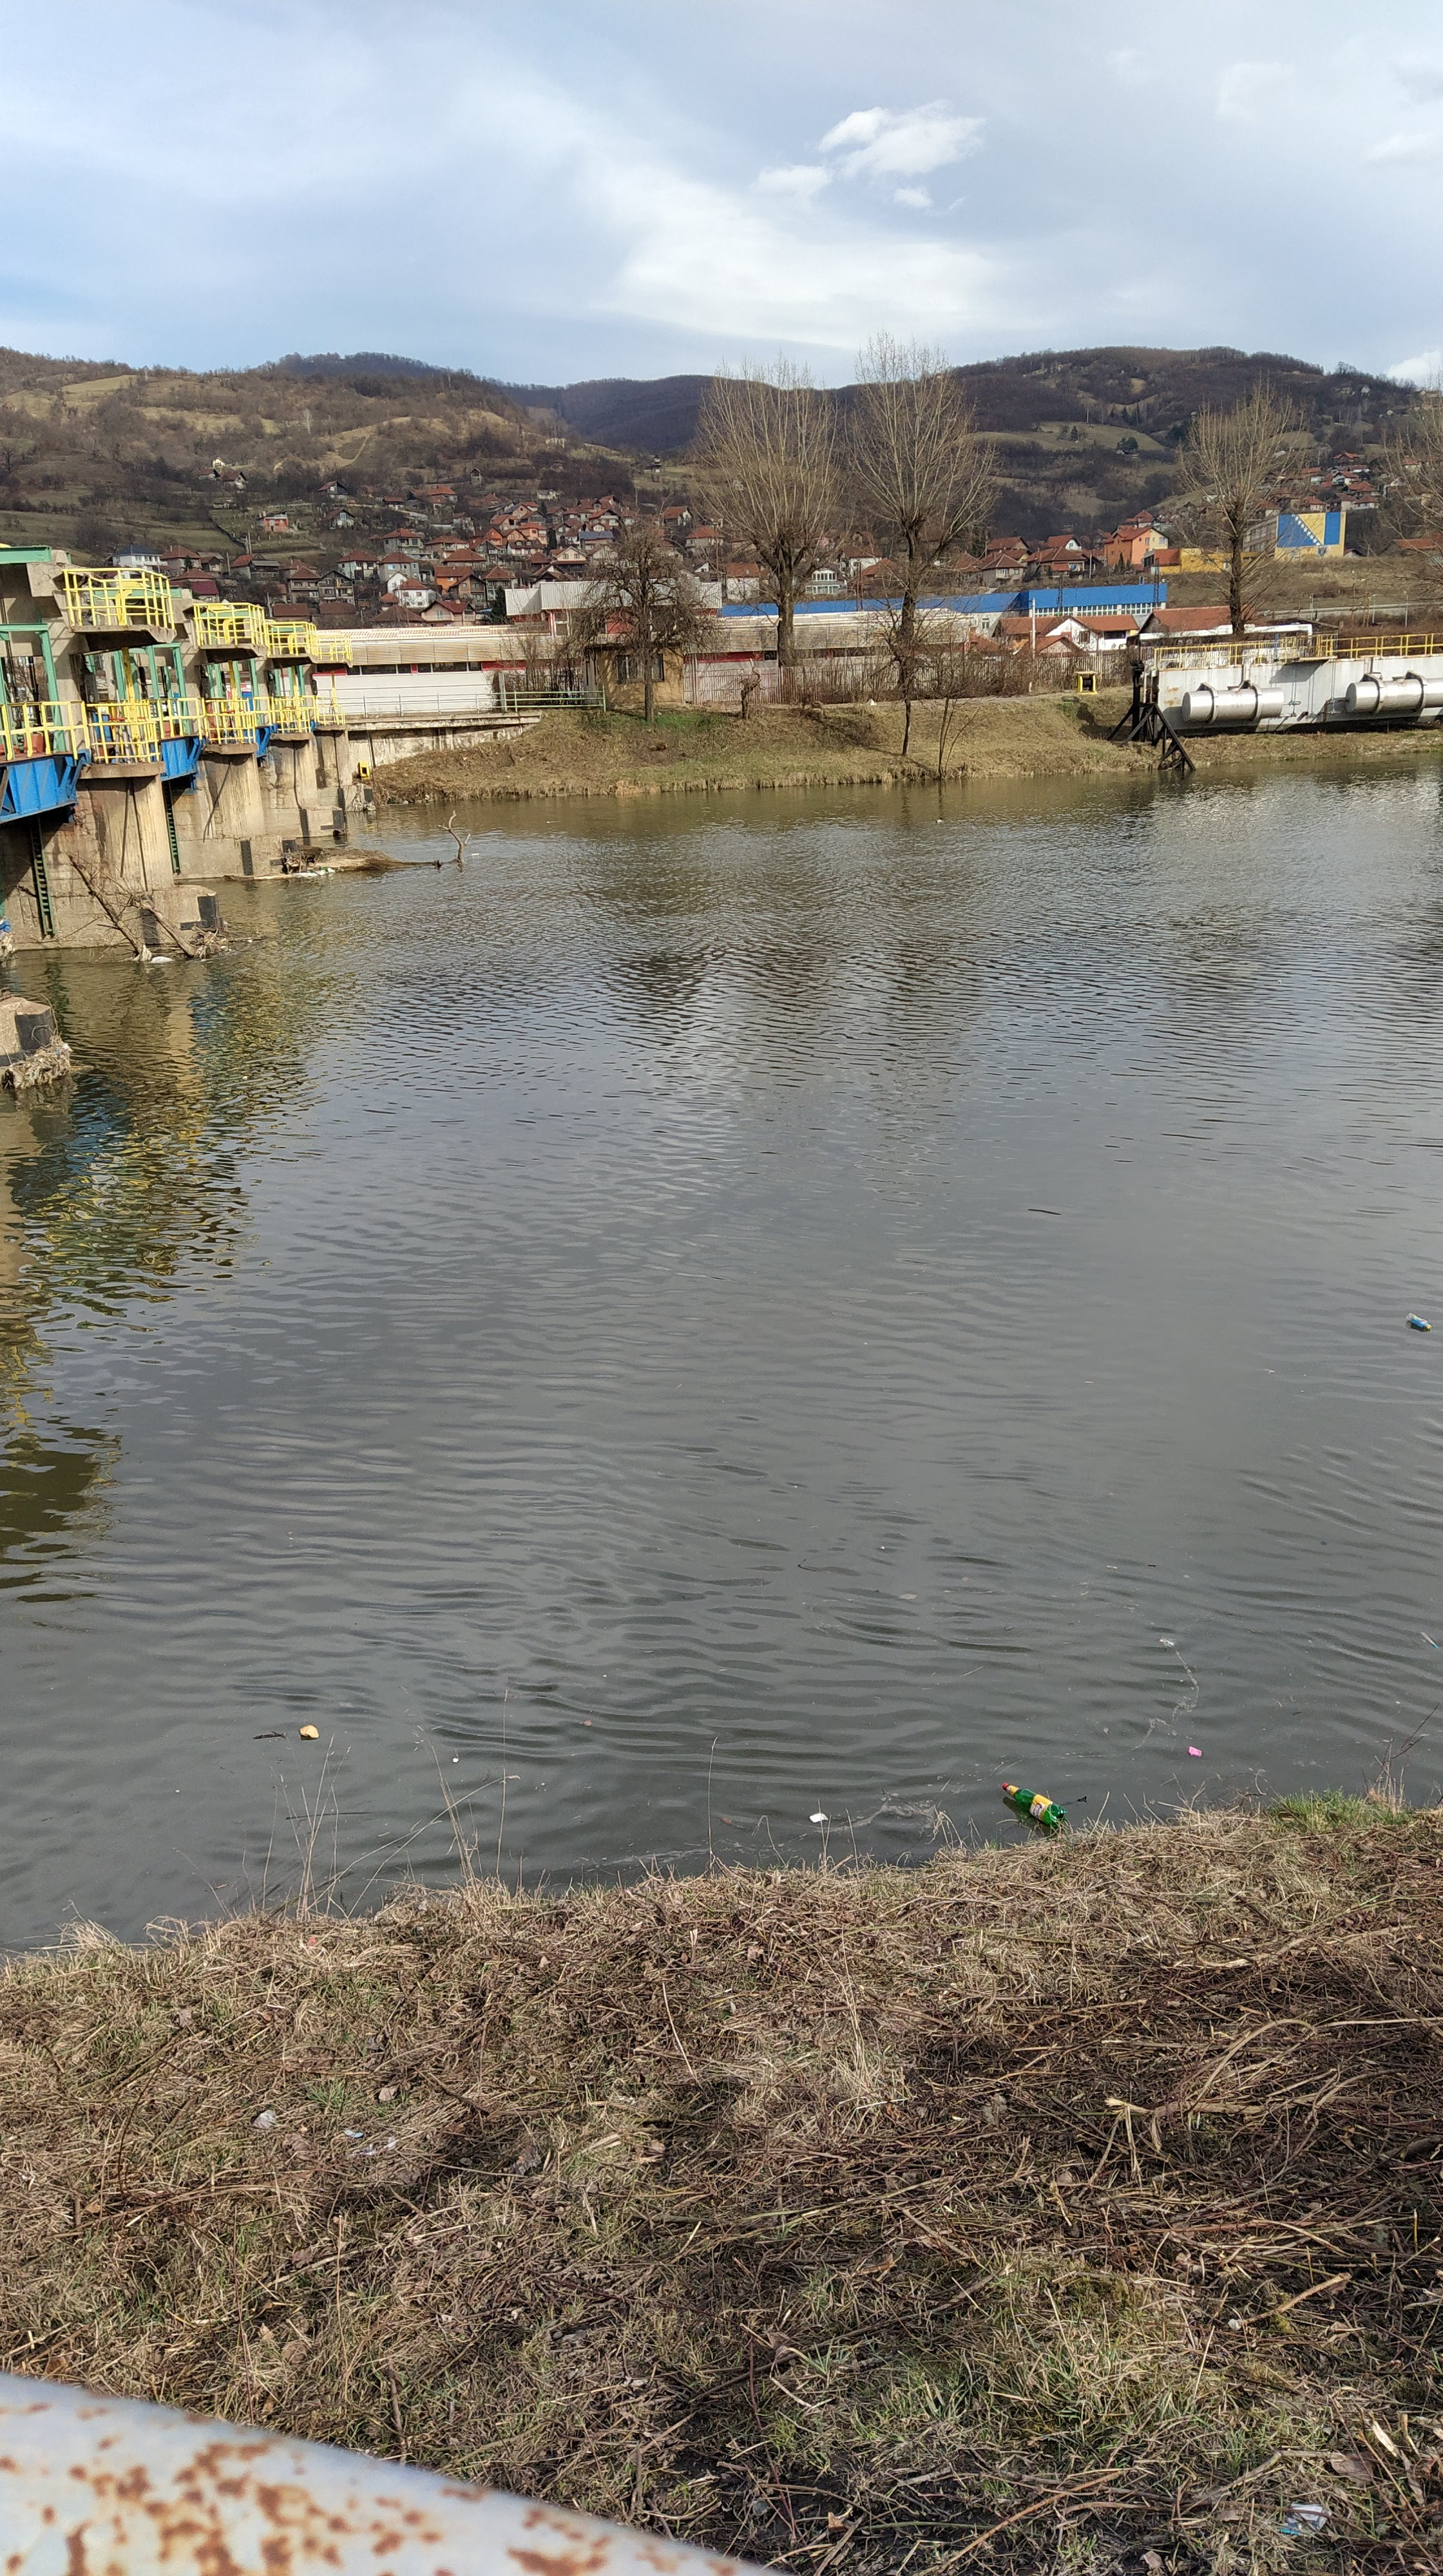Plastic Bottle: (1002, 1783, 1066, 1828), (1406, 1313, 1432, 1332), (473, 853, 480, 856)
